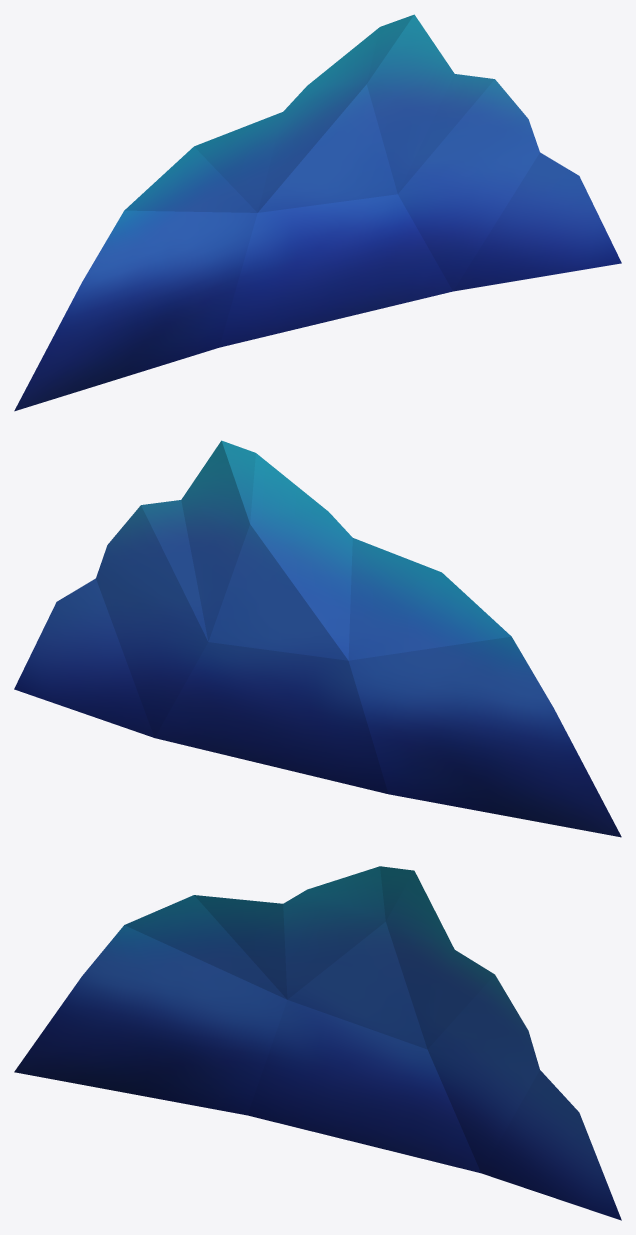
Rendered from Terrain_SnowMountain_Far_2.fbx.
3 renders of one model, top to bottom at view 1: azimuth 30°, elevation 25°; view 2: azimuth 150°, elevation 25°; view 3: azimuth 330°, elevation 25°, orthographic.
Visible parts, largest first — view 1: terrain_mountain_far_403; view 2: terrain_mountain_far_403; view 3: terrain_mountain_far_403.
Boxes of the visible parts, x1=… form: terrain_mountain_far_403: x1=14, y1=14, x2=621, y2=411; terrain_mountain_far_403: x1=14, y1=440, x2=621, y2=837; terrain_mountain_far_403: x1=14, y1=866, x2=621, y2=1220.
Bounding box in the file's own units: 19422 × 9164 × 823.
1 material, 1 textured.
